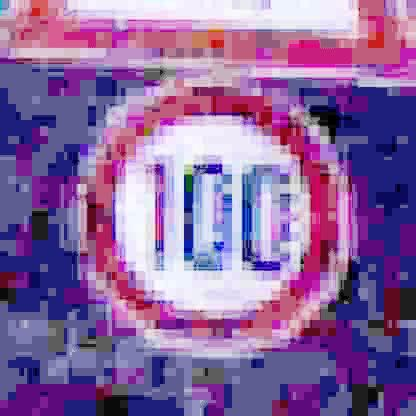Speed Limit -100-: (66, 81, 350, 354)
